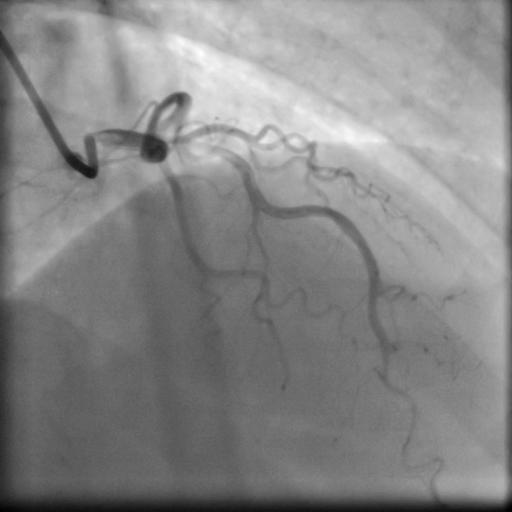Stenosis: (181, 136, 229, 157)
